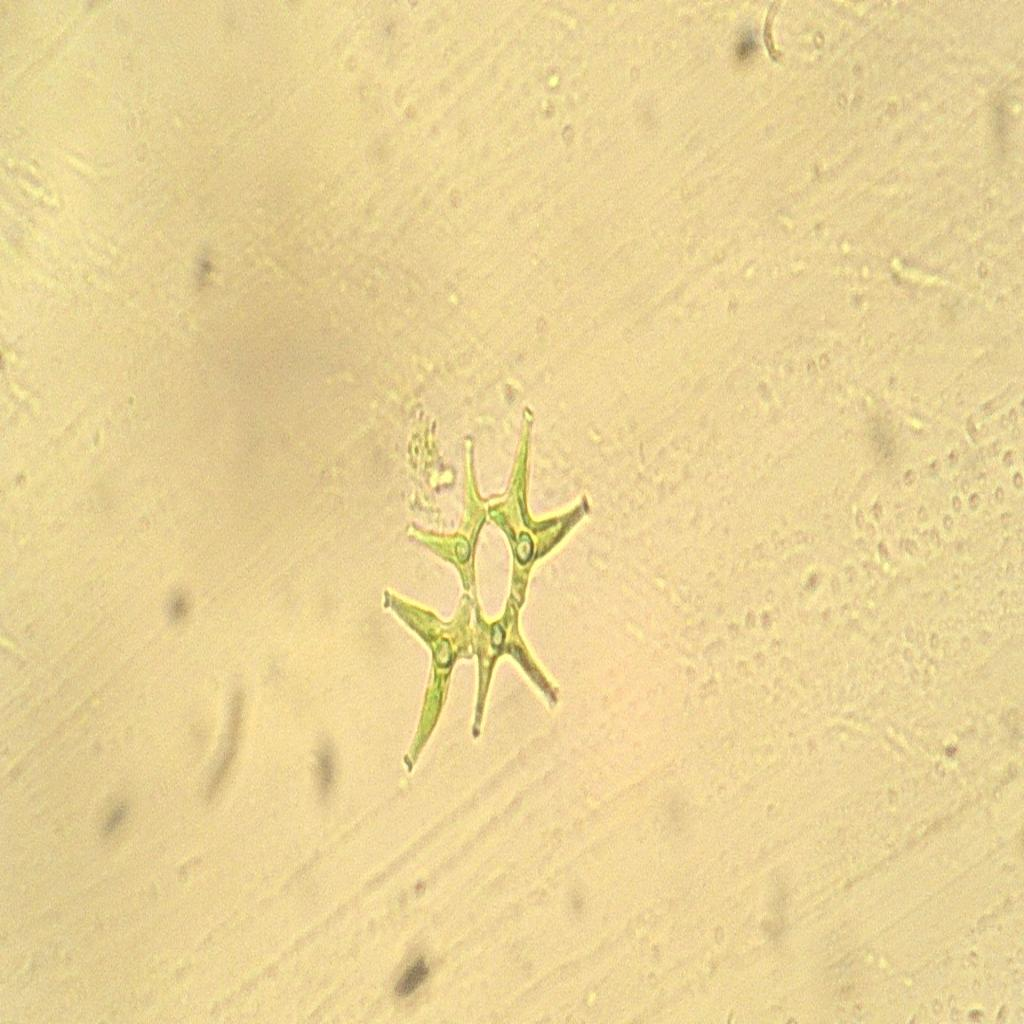Pediastrum_CT: (380, 374, 596, 807)
